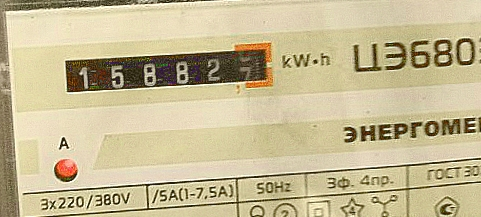1: (77, 61, 92, 90)
2: (204, 55, 222, 82)
5: (108, 61, 127, 92)
7: (238, 63, 251, 80)
8: (140, 59, 158, 88), (173, 57, 191, 85)
screen: (52, 32, 281, 104)
